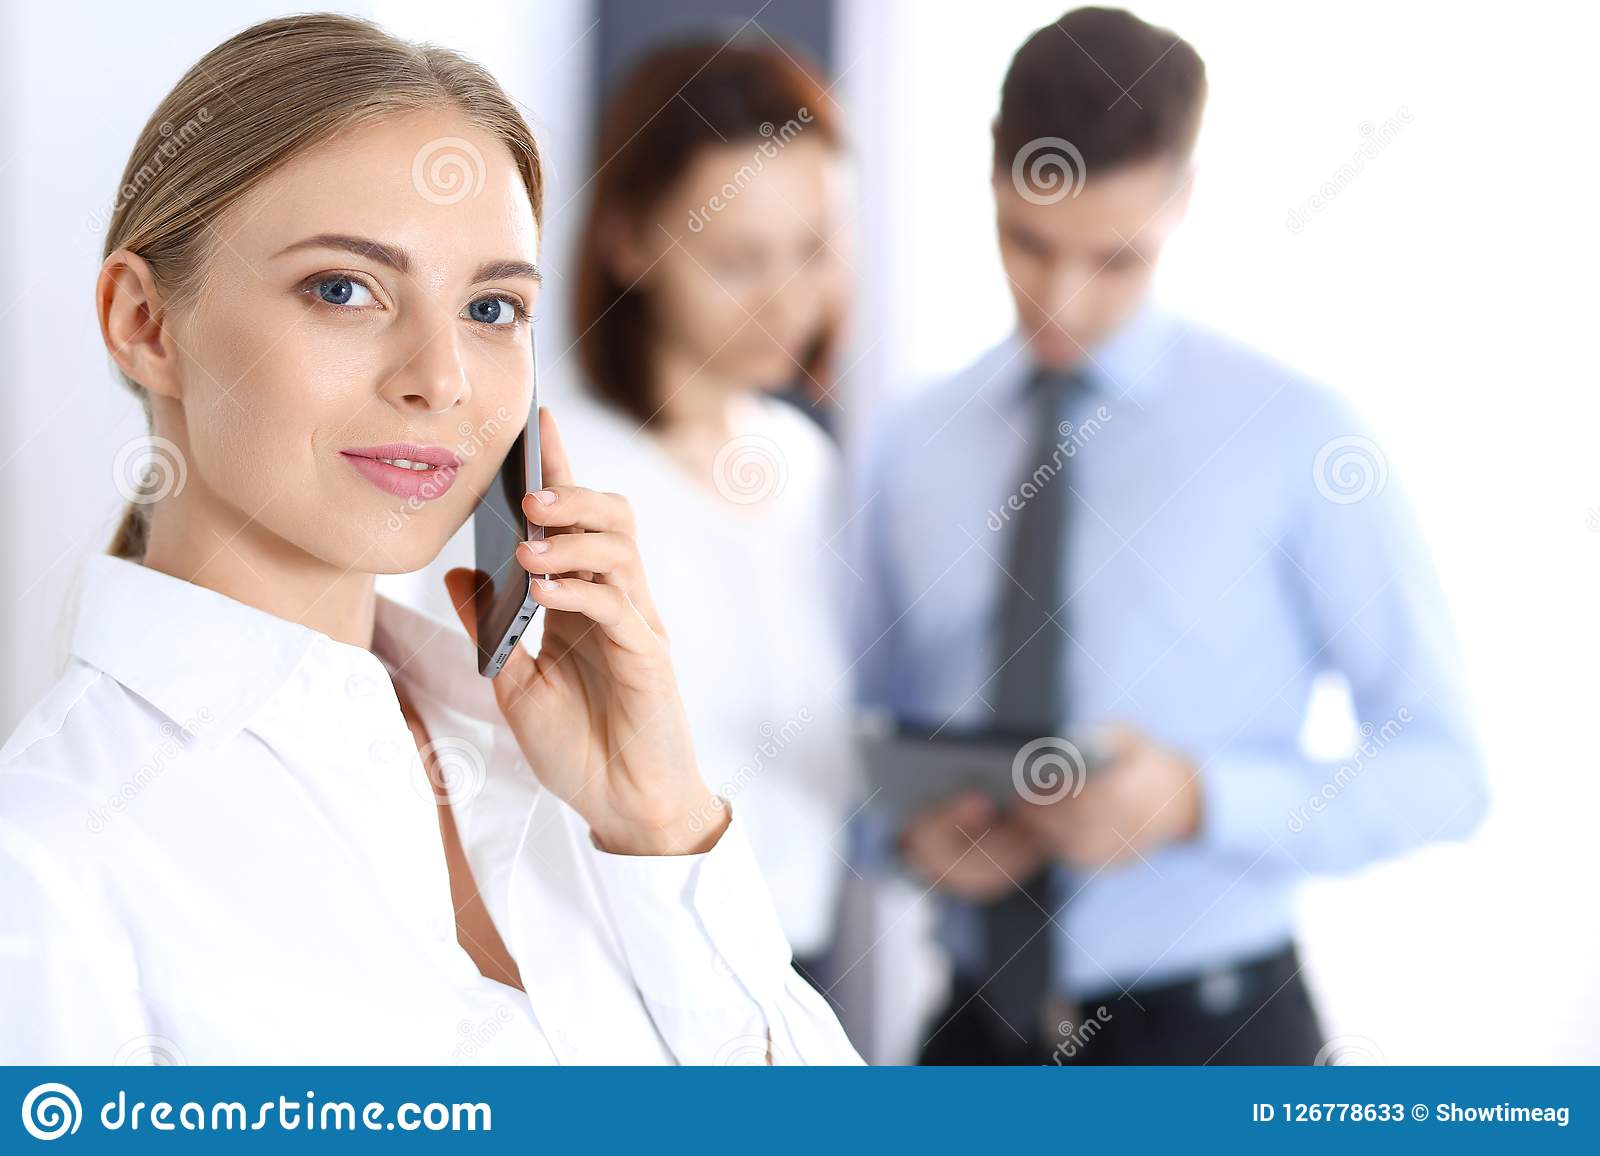phone: (460, 396, 564, 703)
talk: (270, 220, 693, 838)
